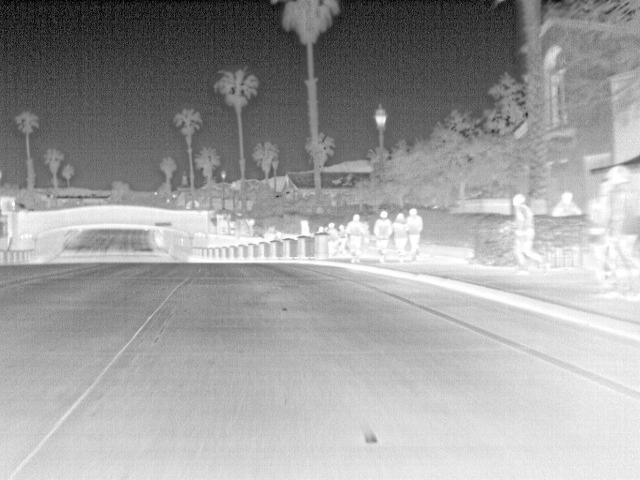person: (605, 165, 638, 293), (508, 191, 548, 271), (373, 208, 396, 264), (342, 213, 365, 262), (404, 206, 423, 262), (392, 212, 411, 262), (550, 190, 582, 216), (323, 220, 338, 256)
